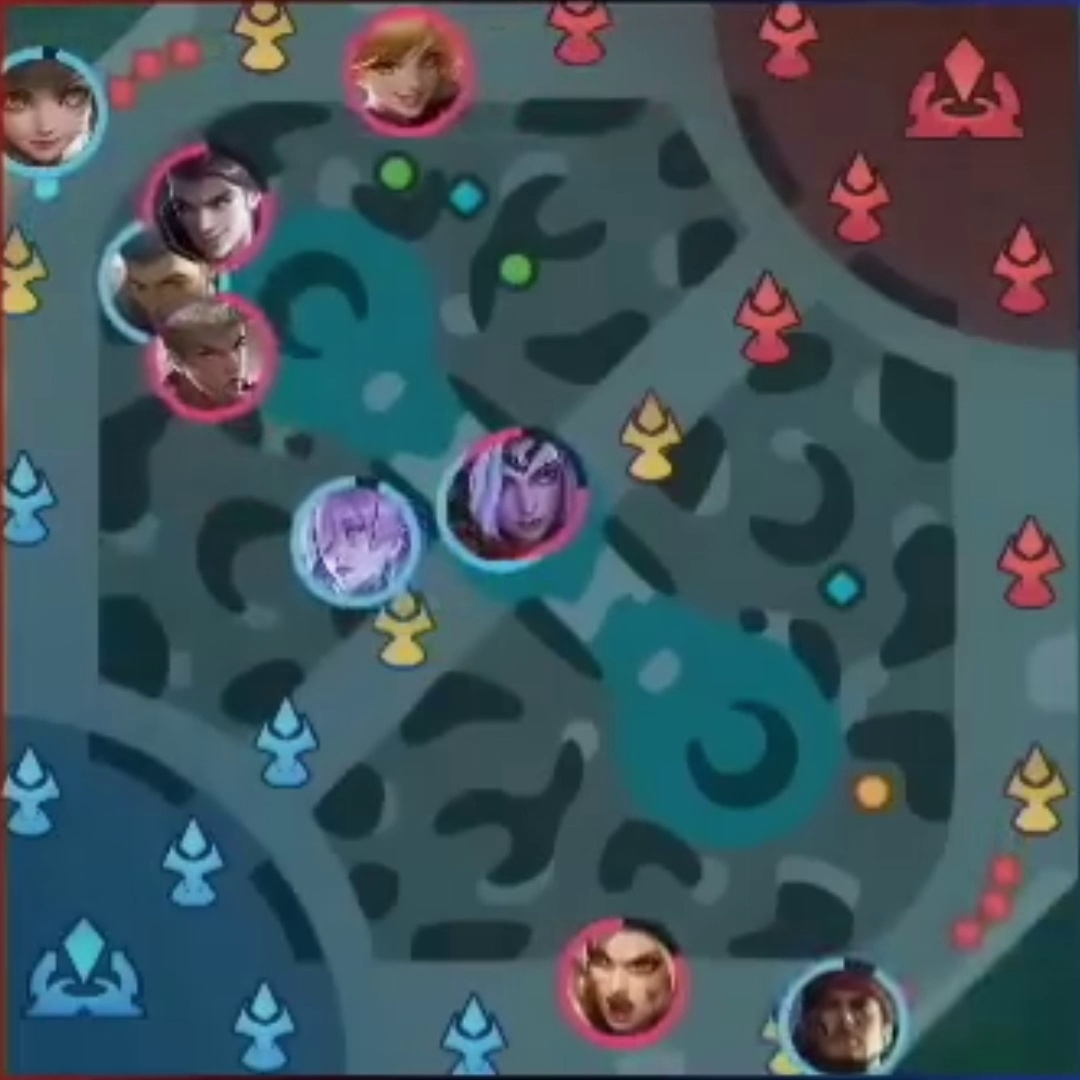Chou: (173, 315, 261, 409)
Claude: (157, 154, 259, 259)
Fanny: (352, 25, 463, 132)
Fredrinn: (99, 229, 202, 330)
Lapu-Lapu: (789, 960, 904, 1075)
Masha: (569, 922, 680, 1038)
Novaria: (299, 481, 422, 599)
Valentina: (478, 435, 577, 544)
Wanwan: (4, 51, 101, 171)
